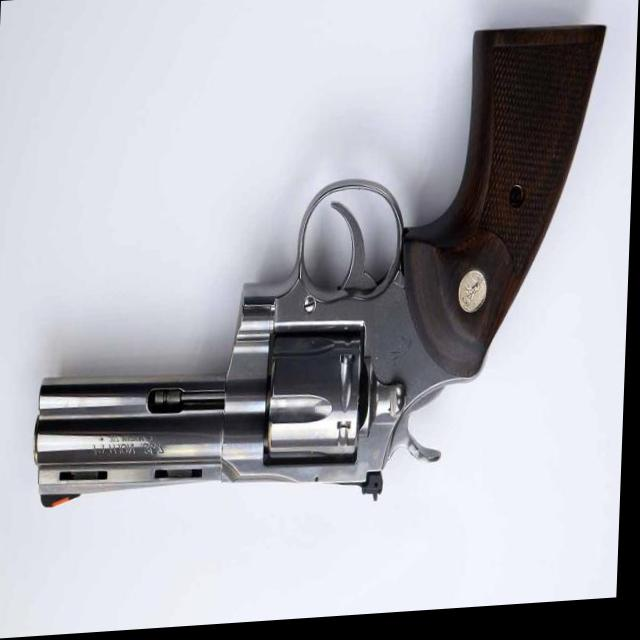handgun: (33, 18, 615, 508)
